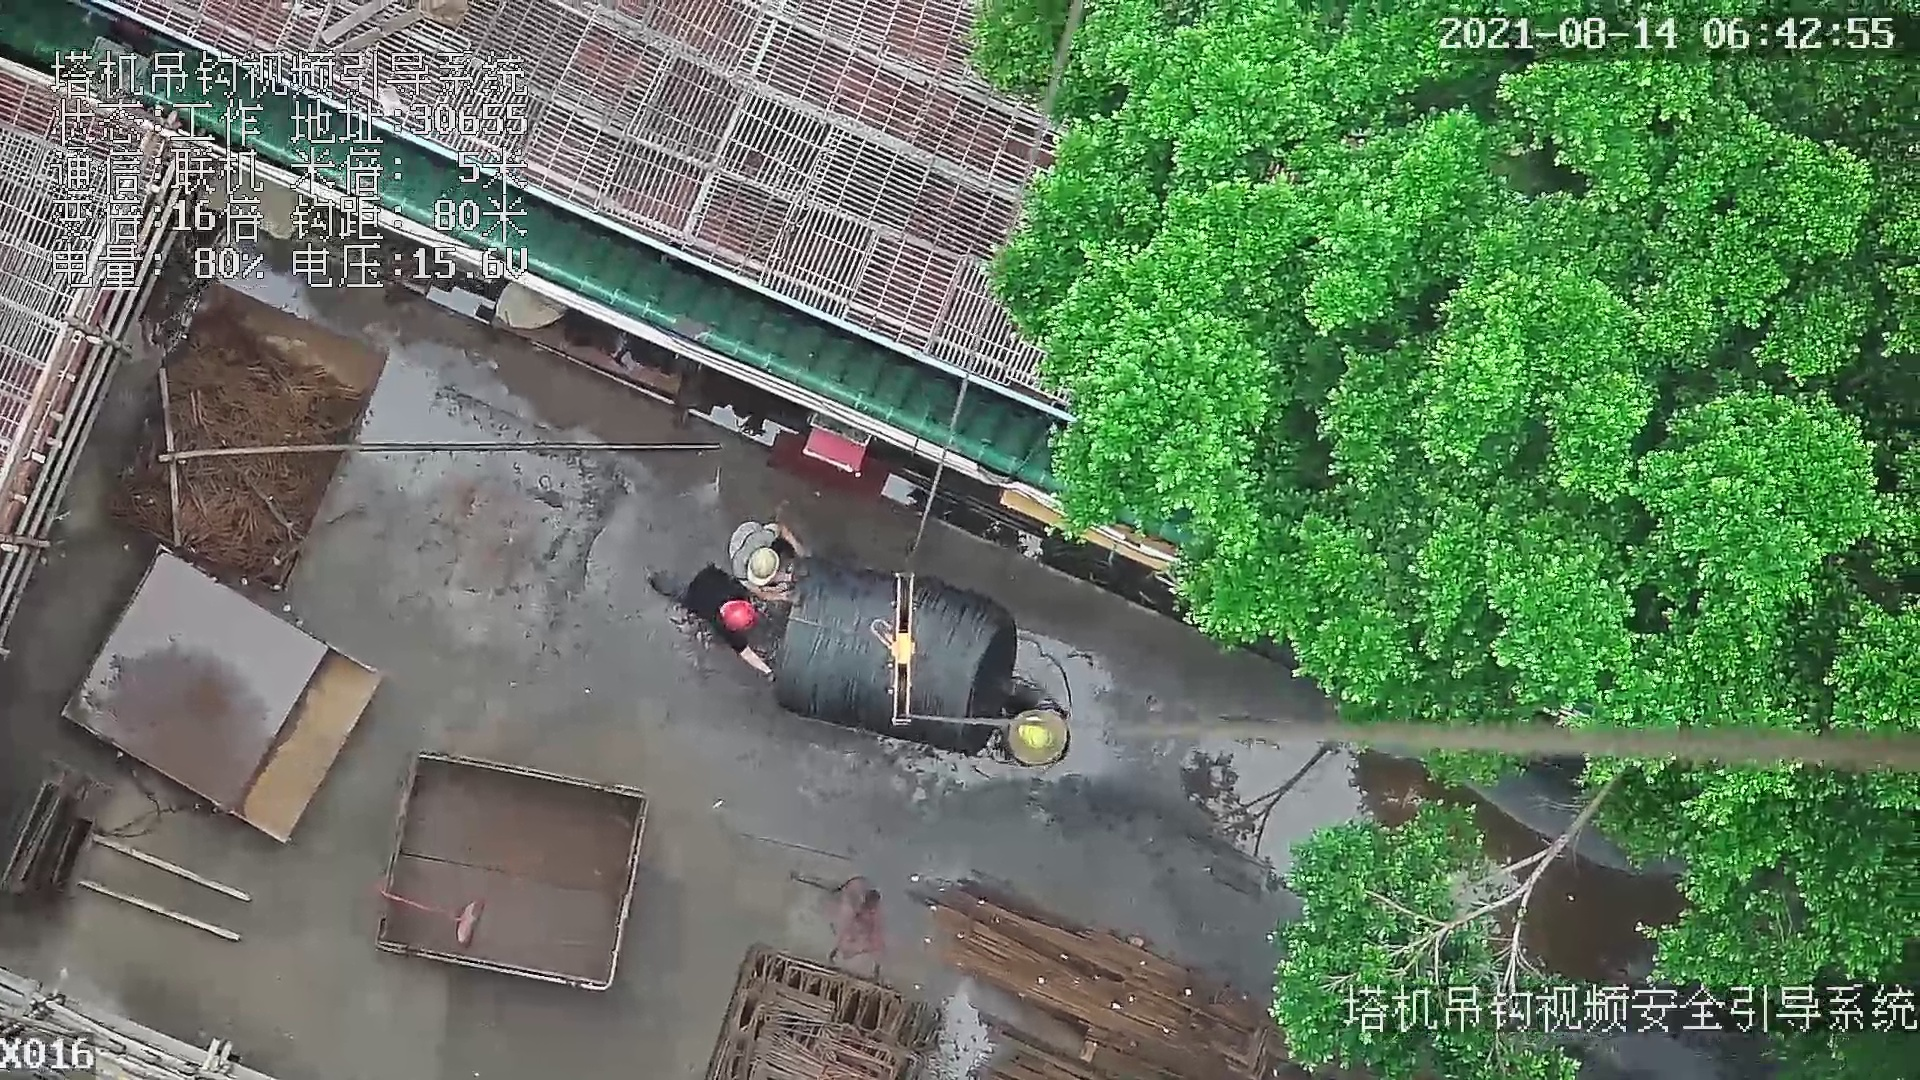helmet: (1017, 712, 1056, 756), (745, 545, 782, 591), (719, 600, 754, 638)
hook: (868, 573, 919, 728)
person: (642, 558, 791, 678), (727, 512, 814, 610), (990, 686, 1076, 776)
